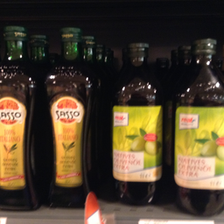oil: (42, 26, 97, 208), (106, 43, 167, 204), (169, 39, 223, 217), (2, 25, 41, 211)
